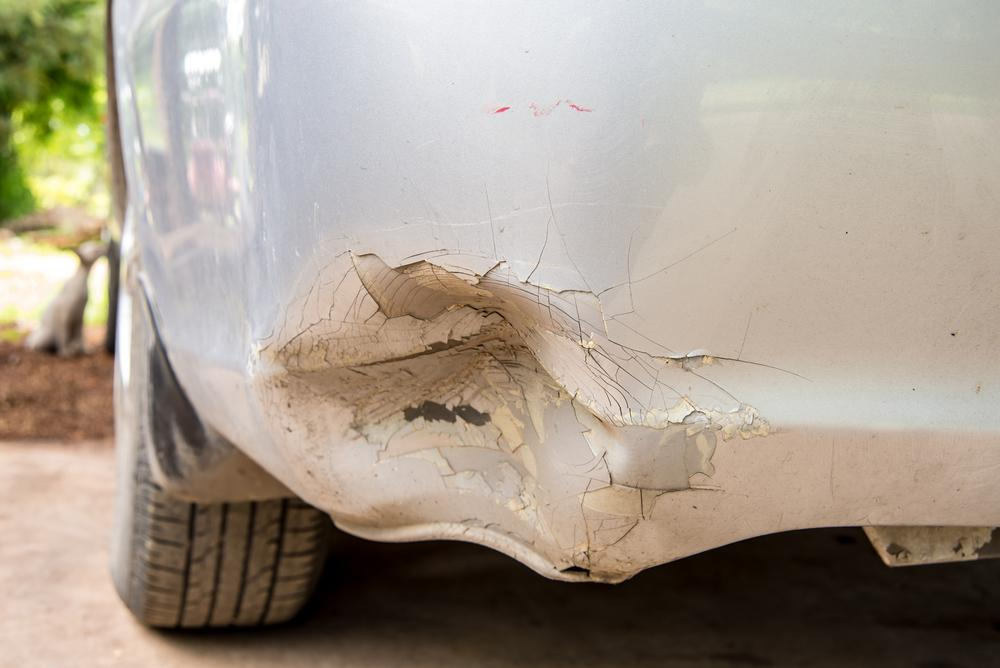dent: (264, 248, 706, 578)
